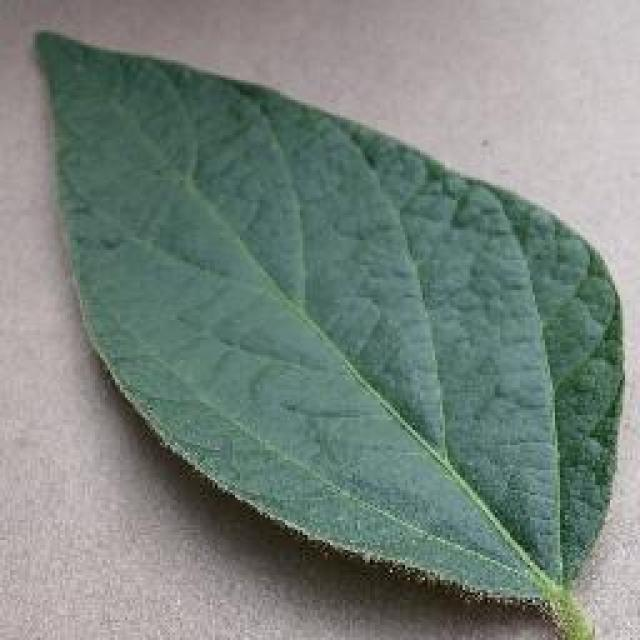Soy_healthy: (35, 68, 581, 504)
